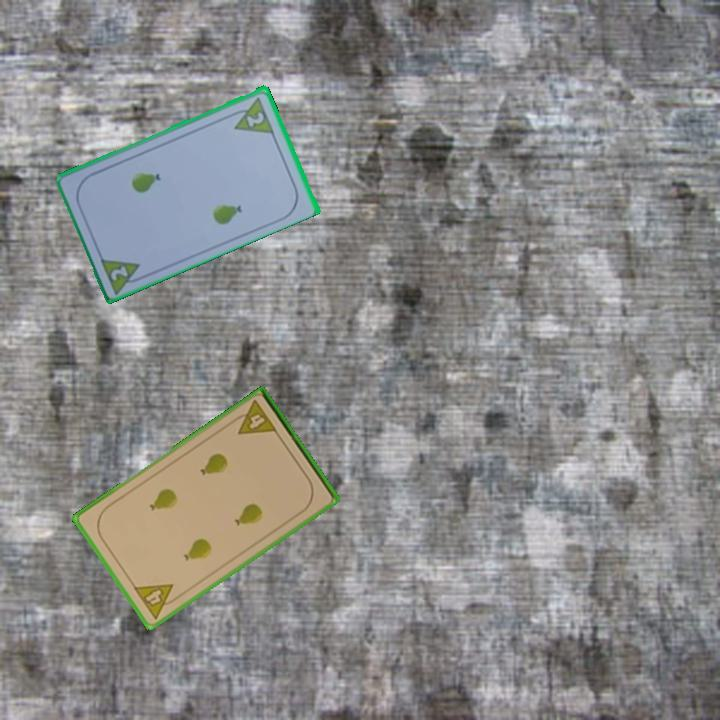2p: (226, 93, 276, 136), (107, 262, 131, 283)
4p: (130, 580, 183, 622), (228, 397, 280, 438)
